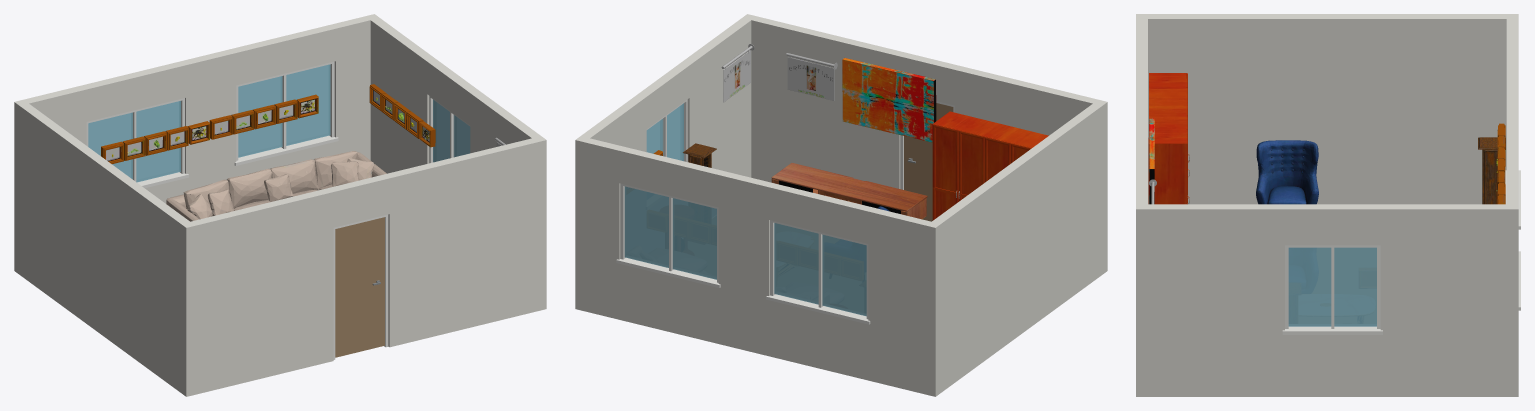
The model's file is holodeck.glb.
3 views of the same model, side by side, from view 1: azimuth 30°, elevation 25°; view 2: azimuth 150°, elevation 25°; view 3: azimuth 270°, elevation 25° (orthographic). The views are drawn at different scales.
Parts seen in each view (by area): view 1: wall|scenesmith_007__R00|0, wall|scenesmith_007__R00|2, wall|scenesmith_007__R00|1, wall|scenesmith_007__R00|3, wall|scenesmith_007__R00|1 Window 0 | glazing, scenesmith_007__R00_0, wall|scenesmith_007__R00|0 Door 0 | wood leaf, scenesmith_007__R00_10, wall|scenesmith_007__R00|1 Window 0 | jamb, wall|scenesmith_007__R00|3 Window 0 | glazing, wall|scenesmith_007__R00|0 Door 0 | jamb, wall|scenesmith_007__R00|3 Window 0 | jamb; view 2: wall|scenesmith_007__R00|1, wall|scenesmith_007__R00|2, wall|scenesmith_007__R00|0, wall|scenesmith_007__R00|3, wall|scenesmith_007__R00|1 Window 0 | glazing, scenesmith_007__R00_9, scenesmith_007__R00_13, wall|scenesmith_007__R00|1 Window 0 | jamb, scenesmith_007__R00_1, scenesmith_007__R00_14, wall|scenesmith_007__R00|0 Door 0 | wood leaf, wall|scenesmith_007__R00|3 Window 0 | glazing (+2 smaller); view 3: wall|scenesmith_007__R00|3, wall|scenesmith_007__R00|2, wall|scenesmith_007__R00|3 Window 0 | glazing, scenesmith_007__R00_9, wall|scenesmith_007__R00|1, wall|scenesmith_007__R00|0, scenesmith_007__R00_7, wall|scenesmith_007__R00|3 Window 0 | jamb, scenesmith_007__R00_5, scenesmith_007__R00_10, scenesmith_007__R00_13, wall|scenesmith_007__R00|1 Window 0 | jamb.
Part boxes in pixels (left/top/right/bottom): wall|scenesmith_007__R00|0: left=181, top=136, right=545, bottom=394; wall|scenesmith_007__R00|2: left=15, top=99, right=195, bottom=396; wall|scenesmith_007__R00|1: left=14, top=16, right=370, bottom=274; wall|scenesmith_007__R00|3: left=365, top=14, right=546, bottom=311; wall|scenesmith_007__R00|1 Window 0 | glazing: left=88, top=64, right=330, bottom=182; scenesmith_007__R00_0: left=166, top=151, right=386, bottom=221; wall|scenesmith_007__R00|0 Door 0 | wood leaf: left=335, top=217, right=384, bottom=357; scenesmith_007__R00_10: left=101, top=84, right=435, bottom=163; wall|scenesmith_007__R00|1 Window 0 | jamb: left=86, top=61, right=338, bottom=188; wall|scenesmith_007__R00|3 Window 0 | glazing: left=433, top=99, right=470, bottom=162; wall|scenesmith_007__R00|0 Door 0 | jamb: left=333, top=214, right=388, bottom=359; wall|scenesmith_007__R00|3 Window 0 | jamb: left=429, top=96, right=470, bottom=163; wall|scenesmith_007__R00|1: left=584, top=138, right=940, bottom=396; wall|scenesmith_007__R00|2: left=926, top=102, right=1107, bottom=396; wall|scenesmith_007__R00|0: left=742, top=14, right=1106, bottom=188; wall|scenesmith_007__R00|3: left=575, top=18, right=751, bottom=311; wall|scenesmith_007__R00|1 Window 0 | glazing: left=624, top=186, right=866, bottom=316; scenesmith_007__R00_9: left=932, top=111, right=1048, bottom=220; scenesmith_007__R00_13: left=842, top=57, right=936, bottom=142; wall|scenesmith_007__R00|1 Window 0 | jamb: left=616, top=183, right=870, bottom=324; scenesmith_007__R00_1: left=771, top=163, right=927, bottom=219; scenesmith_007__R00_14: left=721, top=44, right=837, bottom=102; wall|scenesmith_007__R00|0 Door 0 | wood leaf: left=904, top=103, right=953, bottom=221; wall|scenesmith_007__R00|3 Window 0 | glazing: left=646, top=103, right=683, bottom=161; wall|scenesmith_007__R00|3: left=1148, top=204, right=1518, bottom=396; wall|scenesmith_007__R00|2: left=1148, top=14, right=1518, bottom=204; wall|scenesmith_007__R00|3 Window 0 | glazing: left=1288, top=247, right=1376, bottom=326; scenesmith_007__R00_9: left=1148, top=73, right=1189, bottom=204; wall|scenesmith_007__R00|1: left=1506, top=19, right=1518, bottom=396; wall|scenesmith_007__R00|0: left=1136, top=14, right=1147, bottom=396; scenesmith_007__R00_7: left=1256, top=140, right=1318, bottom=204; wall|scenesmith_007__R00|3 Window 0 | jamb: left=1282, top=245, right=1382, bottom=334; scenesmith_007__R00_5: left=1478, top=137, right=1505, bottom=204; scenesmith_007__R00_10: left=1496, top=123, right=1505, bottom=204; scenesmith_007__R00_13: left=1149, top=118, right=1154, bottom=204; wall|scenesmith_007__R00|1 Window 0 | jamb: left=1505, top=170, right=1520, bottom=310.
Size of the model in its own units: 5.83 by 2.61 by 4.83.
Materials: 16 (10 with a texture image).
